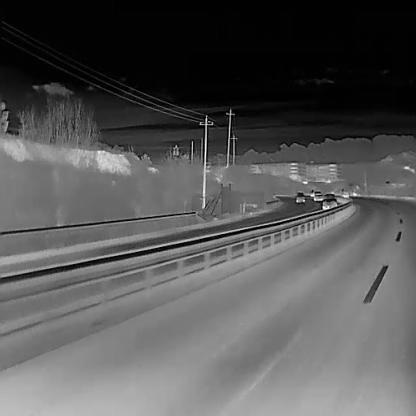car: (320, 193, 338, 211), (294, 191, 305, 203), (312, 190, 322, 201), (339, 188, 349, 198), (308, 189, 315, 197), (350, 189, 357, 197)
